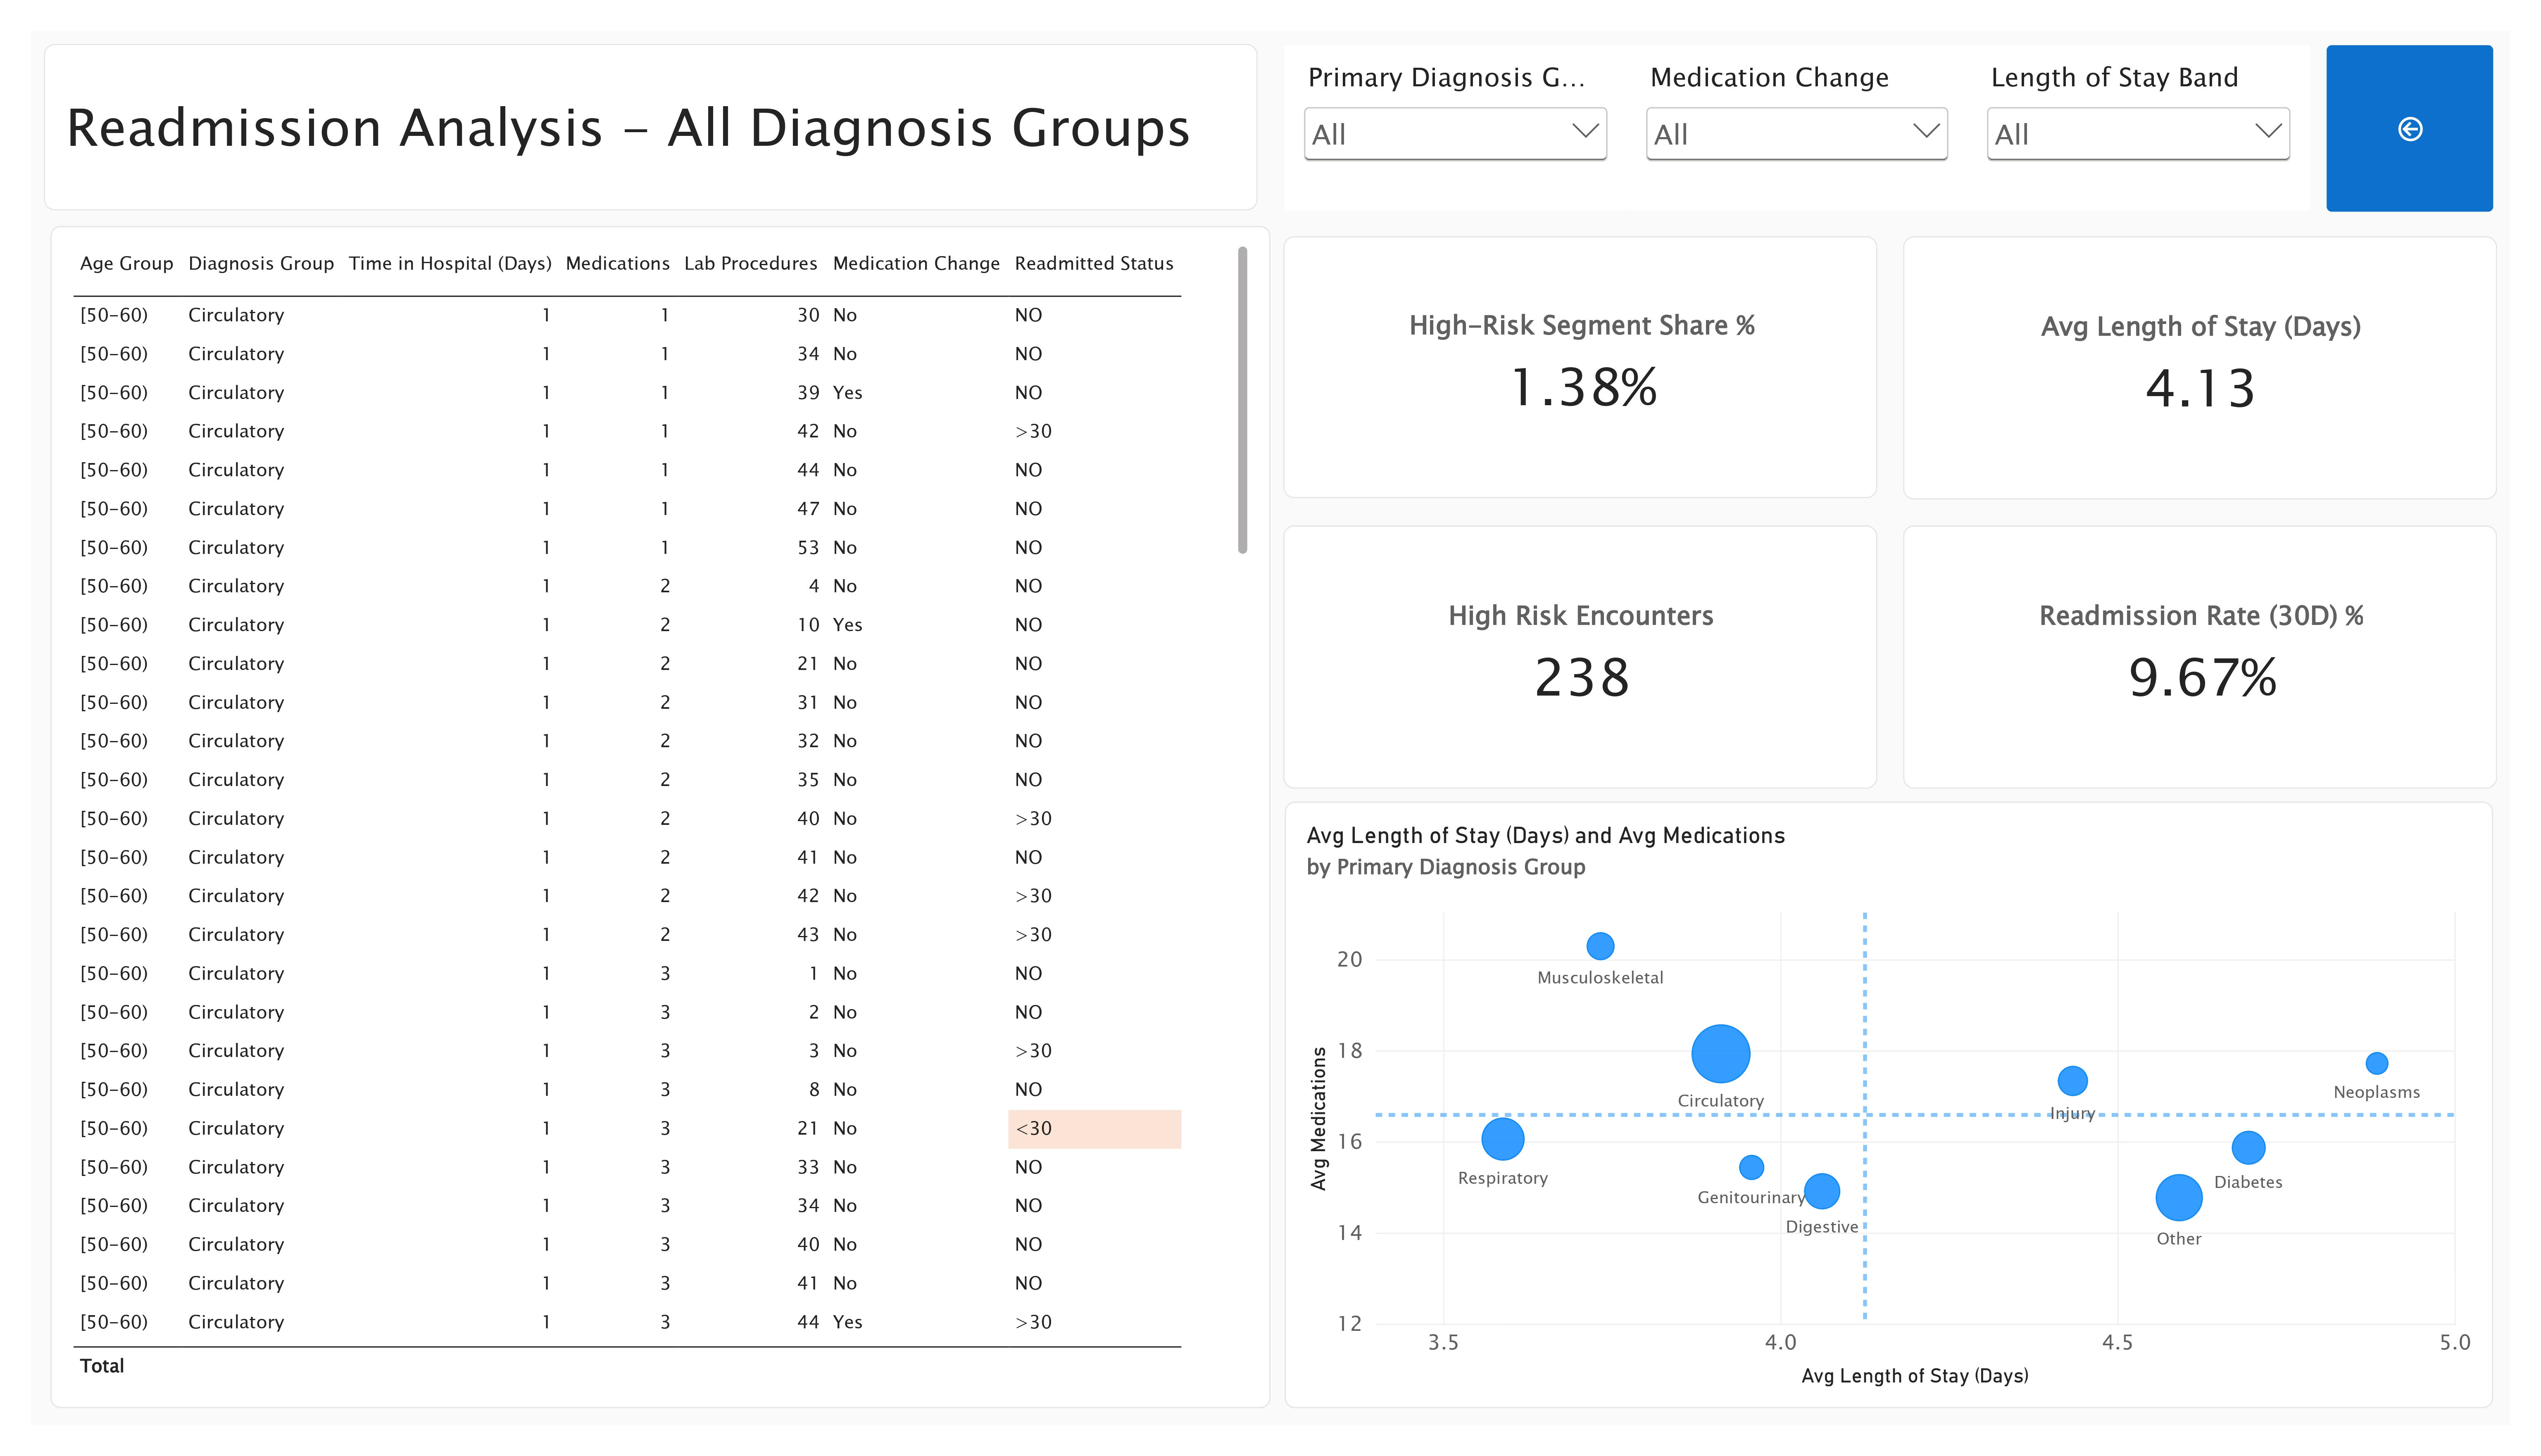

This screenshot's page, from the dashboard's own definition file:
{"tool":"powerbi","page":{"name":"Patient Details","canvas":[1920,1080],"ordinal":3},"visuals":[{"type":"cardVisual","fields":{"Data":["_Measures.Dynamic Title Diagnosis"]},"box":[0,0,960,149.3],"z":0},{"type":"cardVisual","fields":{"Data":["_Measures.High-Risk Segment Share %"]},"box":[960,149.2,480,223.3],"z":0,"group":"g1"},{"type":"group","id":"g1","title":"Group 1","box":[960,149.2,960,223.9],"z":0,"group":"g2"},{"type":"cardVisual","fields":{"Data":["_Measures.High Risk Encounters"]},"box":[960,372.8,480,223.9],"z":0,"group":"g3"},{"type":"slicer","fields":{"Values":["Fact_Encounters.Primary Diagnosis Group"]},"box":[971.5,11.5,264.5,128.1],"z":1000,"group":"g4"},{"type":"group","id":"g2","title":"Group 3","box":[960,149.2,960,447.5],"z":1000},{"type":"cardVisual","fields":{"Data":["_Measures.Avg Length of Stay"]},"box":[1440,149.2,480,223.9],"z":1000,"group":"g1"},{"type":"group","id":"g3","title":"Group 2","box":[960,372.8,960,223.9],"z":1000,"group":"g2"},{"type":"cardVisual","fields":{"Data":["_Measures.Readmission Rate (30D) %"]},"box":[1440,372.8,480,223.9],"z":1000,"group":"g3"},{"type":"slicer","fields":{"Values":["Fact_Encounters.Change"]},"box":[1236,11.5,264.5,128.1],"z":2000,"group":"g4"},{"type":"scatterChart","title":"Avg Length of Stay (Days) and Avg Medications","fields":{"Category":["Fact_Encounters.Primary Diagnosis Group"],"Size":["_Measures.Total Encounters"],"X":["_Measures.Avg Length of Stay"],"Y":["_Measures.Avg Medications"]},"box":[971.5,596.7,935.1,470.4],"z":2000},{"type":"slicer","fields":{"Values":["Fact_Encounters.Length of Stay Band"]},"box":[1500.6,11.5,264.5,128.1],"z":3000,"group":"g4"},{"type":"tableEx","fields":{"Values":["Fact_Encounters.Age Group","Fact_Encounters.Primary Diagnosis Group","Fact_Encounters.Time in Hospital (Days)","Fact_Encounters.Num Medications","Fact_Encounters.Num Lab Procedures","Fact_Encounters.Change","Fact_Encounters.Readmitted Status"]},"box":[15.3,151.1,944.7,916],"z":3000},{"type":"actionButton","box":[1778.5,11.5,128.1,128.1],"z":4000},{"type":"group","id":"g4","title":"Group 4","box":[971.5,11.5,793.6,128.1],"z":5000}]}

Visuals, with their boxes on the page's 1920x1080 design canvas (x1, y1, x2, y2). These are canvas units, not pixel positions in the 2541x1456 screenshot, which may show the page scaled, cropped or inside an application window:
cardVisual - _Measures.Dynamic Title Diagnosis: (x1=0, y1=0, x2=960, y2=149)
cardVisual - _Measures.High-Risk Segment Share %: (x1=960, y1=149, x2=1440, y2=372)
"Group 1" group: (x1=960, y1=149, x2=1920, y2=373)
cardVisual - _Measures.High Risk Encounters: (x1=960, y1=373, x2=1440, y2=597)
slicer - Fact_Encounters.Primary Diagnosis Group: (x1=972, y1=12, x2=1236, y2=140)
"Group 3" group: (x1=960, y1=149, x2=1920, y2=597)
cardVisual - _Measures.Avg Length of Stay: (x1=1440, y1=149, x2=1920, y2=373)
"Group 2" group: (x1=960, y1=373, x2=1920, y2=597)
cardVisual - _Measures.Readmission Rate (30D) %: (x1=1440, y1=373, x2=1920, y2=597)
slicer - Fact_Encounters.Change: (x1=1236, y1=12, x2=1500, y2=140)
"Avg Length of Stay (Days) and Avg Medications" scatterChart: (x1=972, y1=597, x2=1907, y2=1067)
slicer - Fact_Encounters.Length of Stay Band: (x1=1501, y1=12, x2=1765, y2=140)
tableEx - Fact_Encounters.Age Group x Fact_Encounters.Primary Diagnosis Group: (x1=15, y1=151, x2=960, y2=1067)
actionButton: (x1=1778, y1=12, x2=1907, y2=140)
"Group 4" group: (x1=972, y1=12, x2=1765, y2=140)
